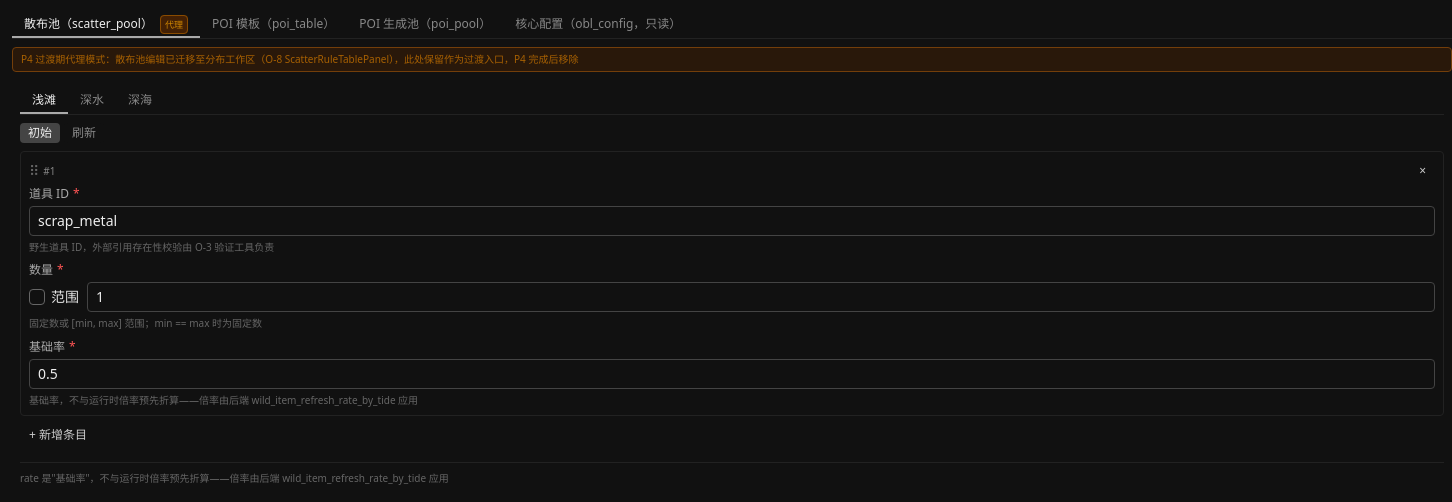
ConfigPanel › 点击 obl_config Tab 切换到只读视图
Click the button "核心配置（obl_config，只读）". click: (598, 25)
box: left=503, top=12, right=693, bottom=38
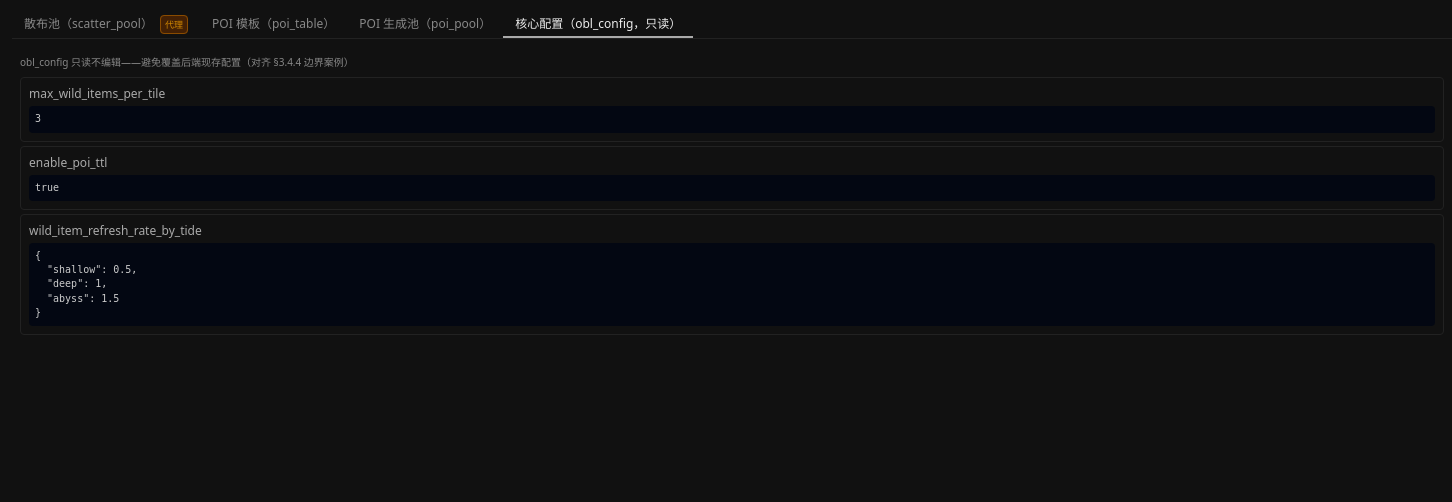
Expected: the text "obl_config 只读不编辑" is shown, left=20, top=55, right=354, bottom=69
